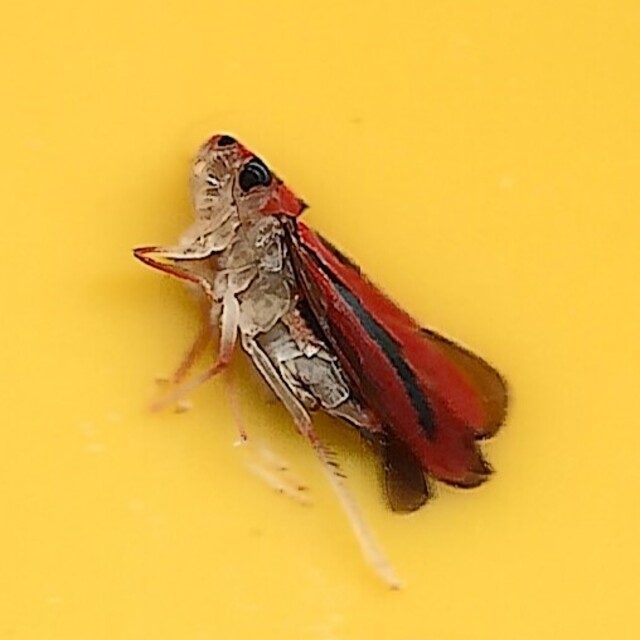Hemiptera: (126, 128, 514, 512)
